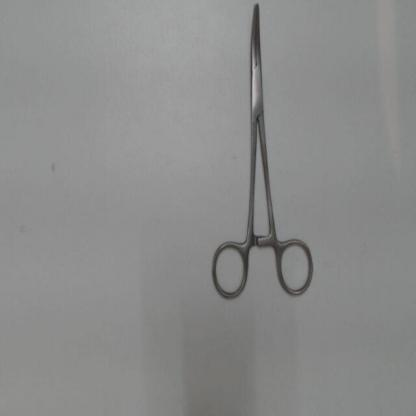Crile Artery Forceps: (207, 2, 321, 303)
